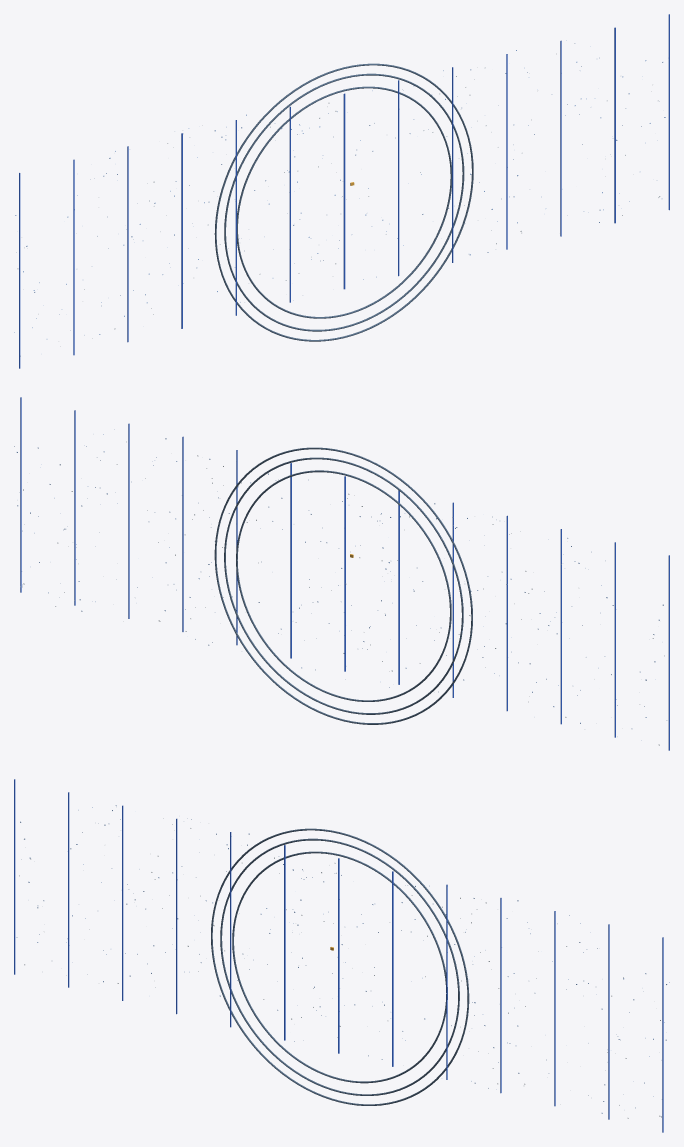
File: 01_L84_PanoramicStarfieldSphere.fbx
The picture shows the model from 3 angles, top to bottom: view 1: azimuth 30°, elevation 25°; view 2: azimuth 150°, elevation 25°; view 3: azimuth 330°, elevation 25°; orthographic projection.
Visible parts, largest first — view 1: L84_PanoramicStarfieldSphere; view 2: L84_PanoramicStarfieldSphere; view 3: L84_PanoramicStarfieldSphere.
Boxes of the visible parts, bbox=[...] form: L84_PanoramicStarfieldSphere: bbox=[14, 14, 669, 368]; L84_PanoramicStarfieldSphere: bbox=[14, 397, 669, 750]; L84_PanoramicStarfieldSphere: bbox=[14, 779, 669, 1132].
Bounding box in the file's own units: 2515 × 994 × 90.95.
